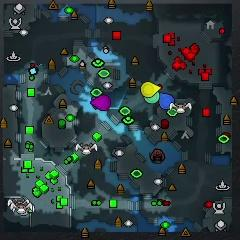p1: (158, 92, 175, 109)
p2: (145, 92, 160, 103)
p3: (91, 94, 111, 111)
p4: (142, 82, 161, 97)
